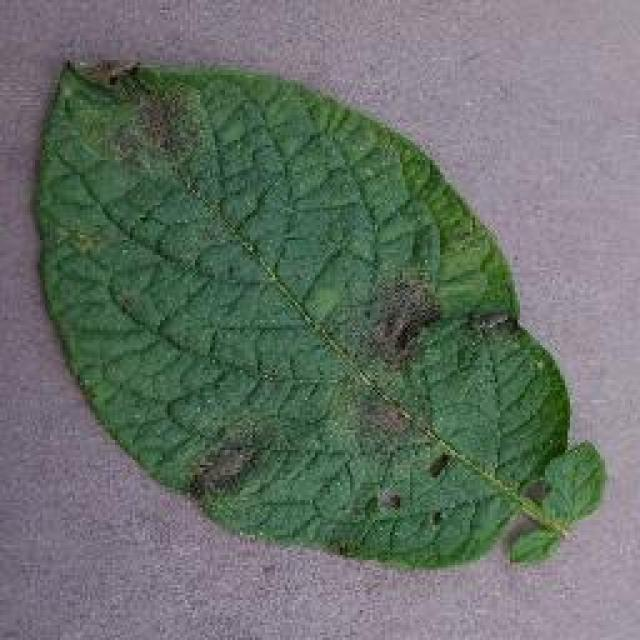Potato___Late_blight: (20, 32, 612, 598)
